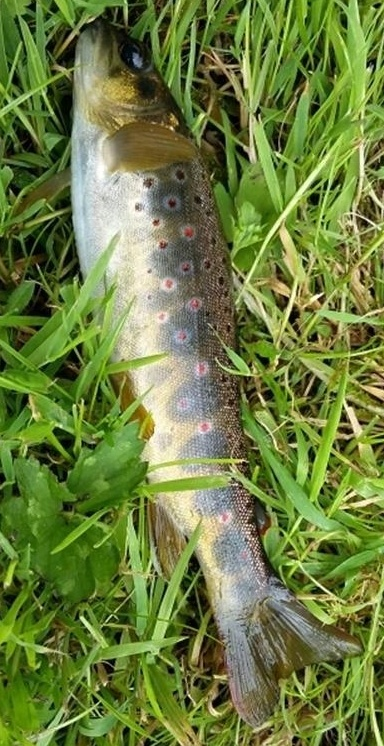Salmo trutta subsp. fario: (20, 20, 364, 726)
